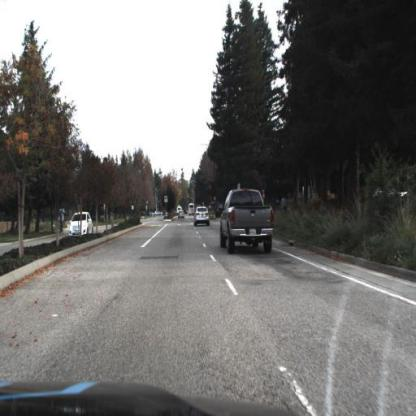biker: (57, 210, 67, 235)
car: (220, 185, 275, 254), (68, 211, 95, 240), (195, 205, 211, 230)
pedestrian: (280, 191, 292, 225)
